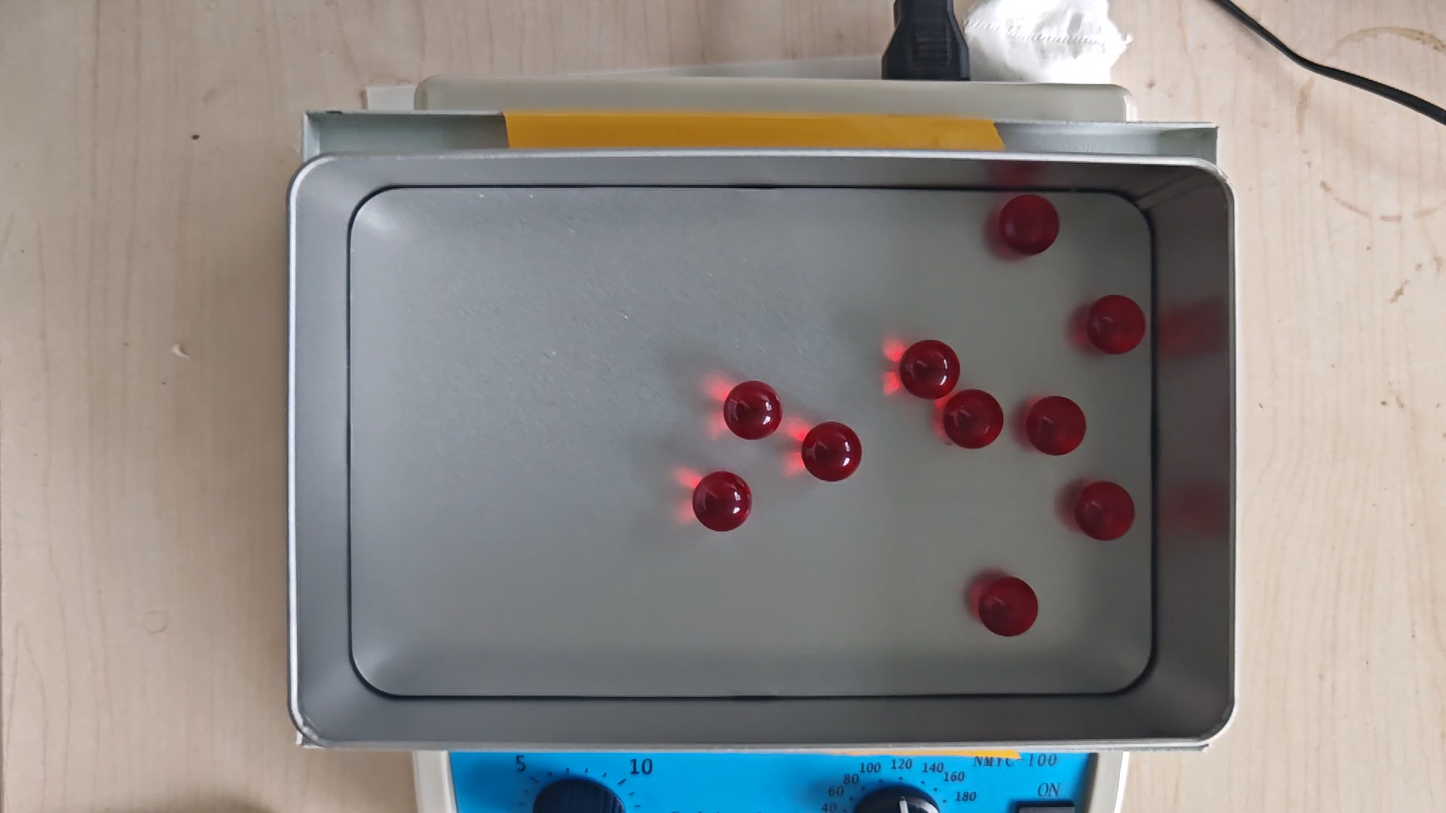ball: (943, 388, 1004, 451), (1075, 480, 1136, 542), (802, 421, 863, 483), (979, 575, 1039, 638), (693, 470, 753, 533), (1026, 395, 1087, 456), (999, 194, 1060, 255), (1086, 294, 1146, 356), (723, 380, 782, 441), (900, 339, 959, 400)
container: (349, 186, 1154, 697)
